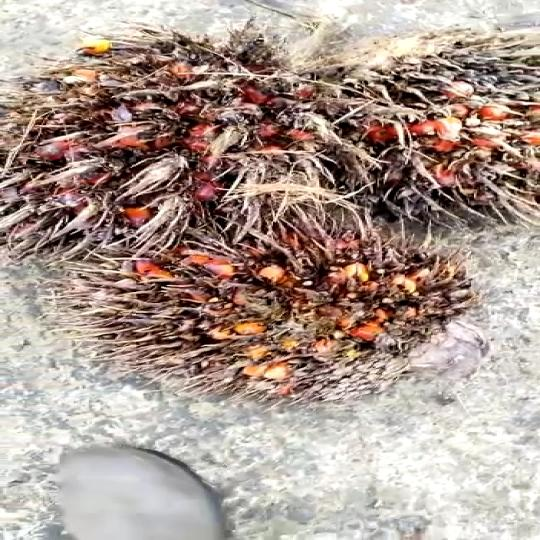terlalu masak: (0, 35, 342, 265), (96, 227, 480, 377), (290, 46, 540, 220)
